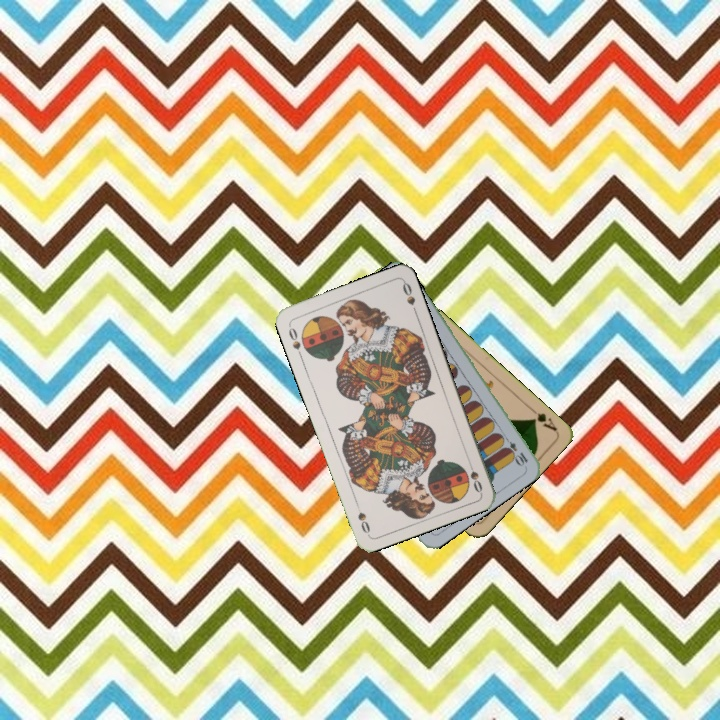E10: (499, 432, 530, 468)
GA: (525, 403, 560, 434)
SO: (463, 456, 485, 495), (284, 320, 305, 360)
